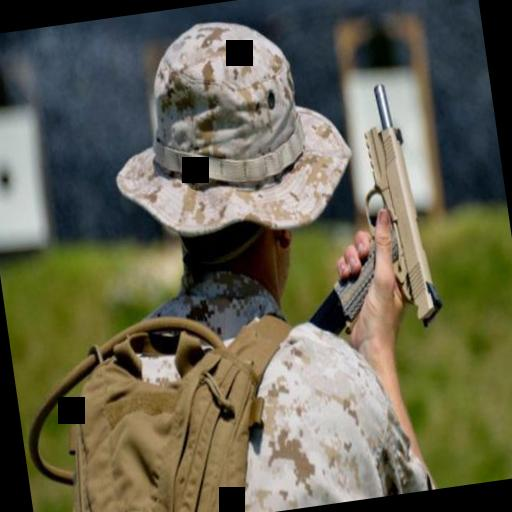Handgun: (306, 69, 438, 332)
